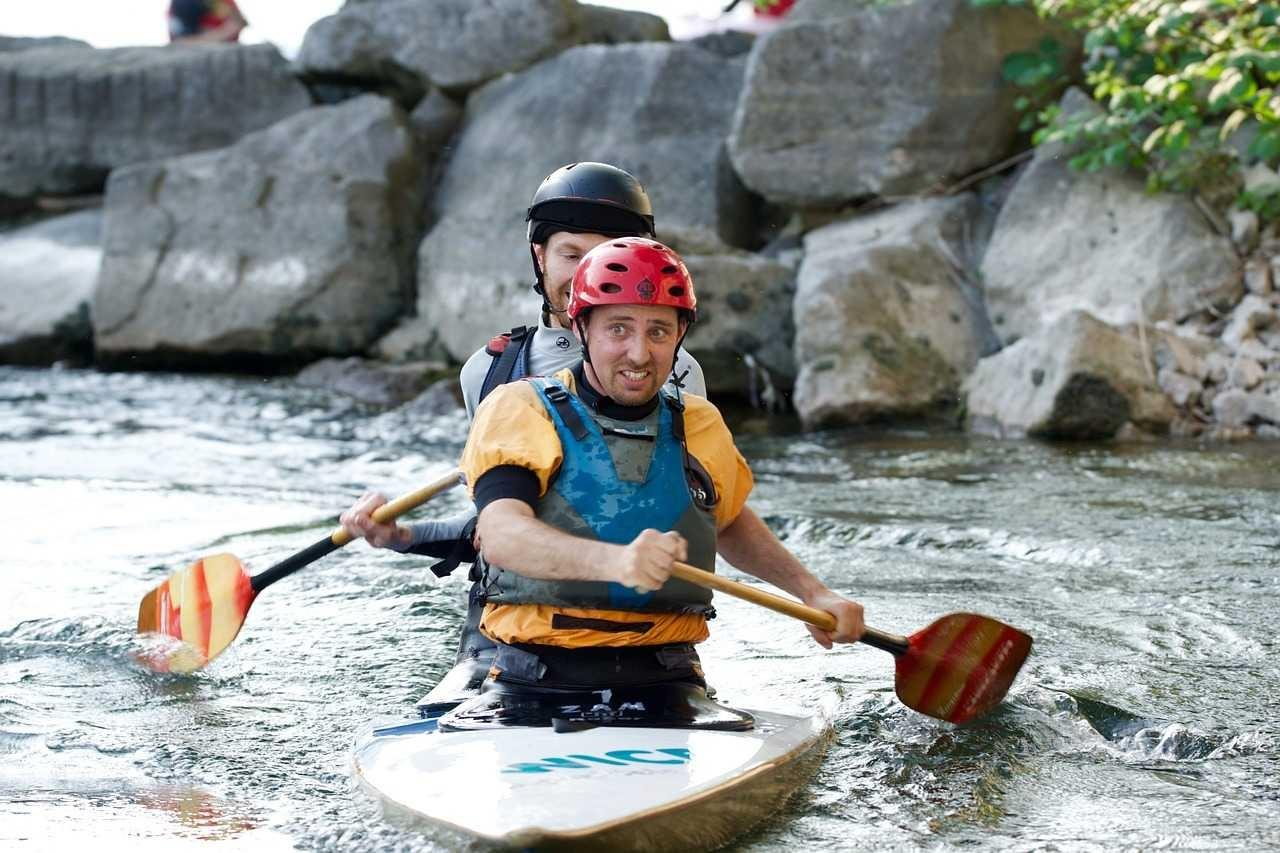kayak: (350, 655, 841, 845)
